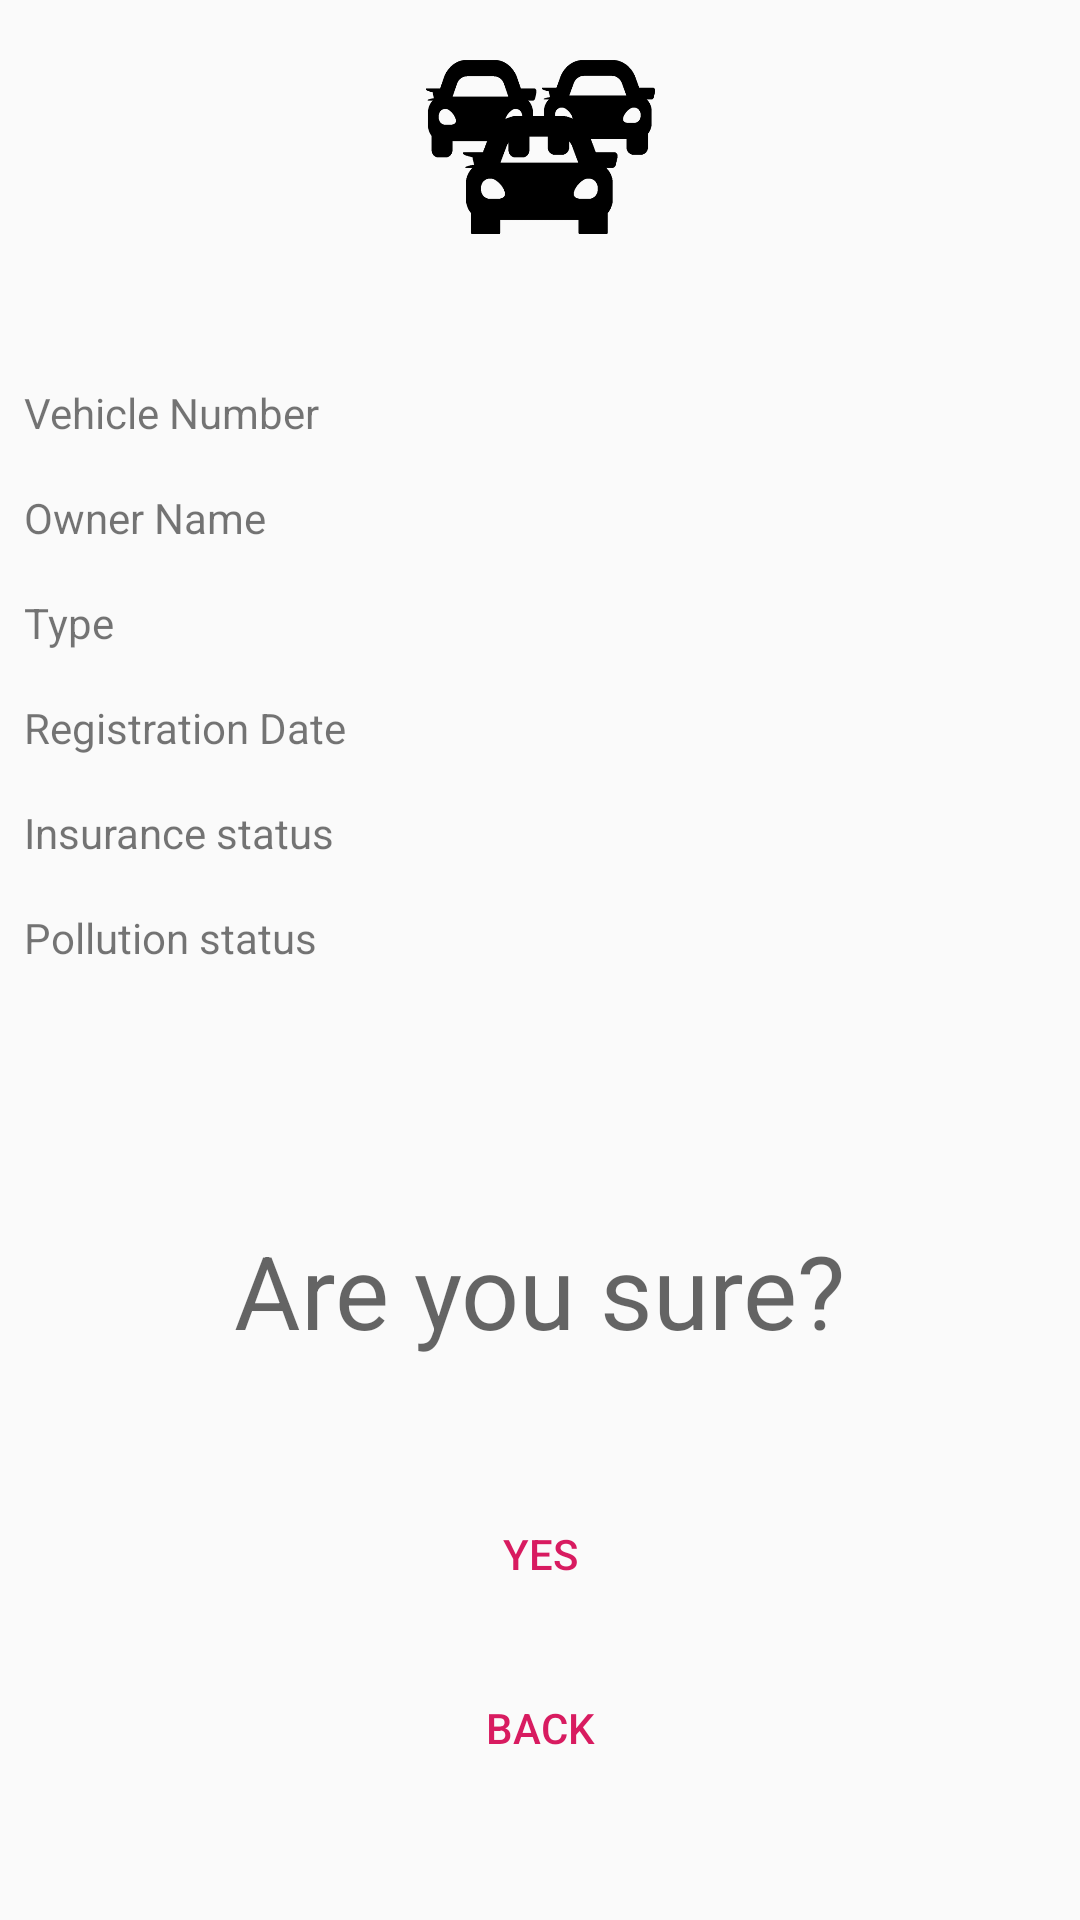

Named icons in this screenshot (1080px x 1920px) and their centers, point (x, y):
group of cars: point (540, 147)
